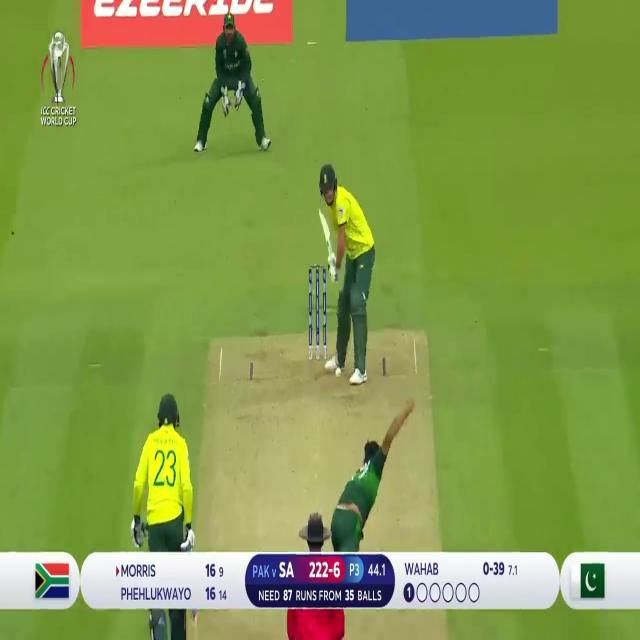ball: (332, 361, 344, 380)
